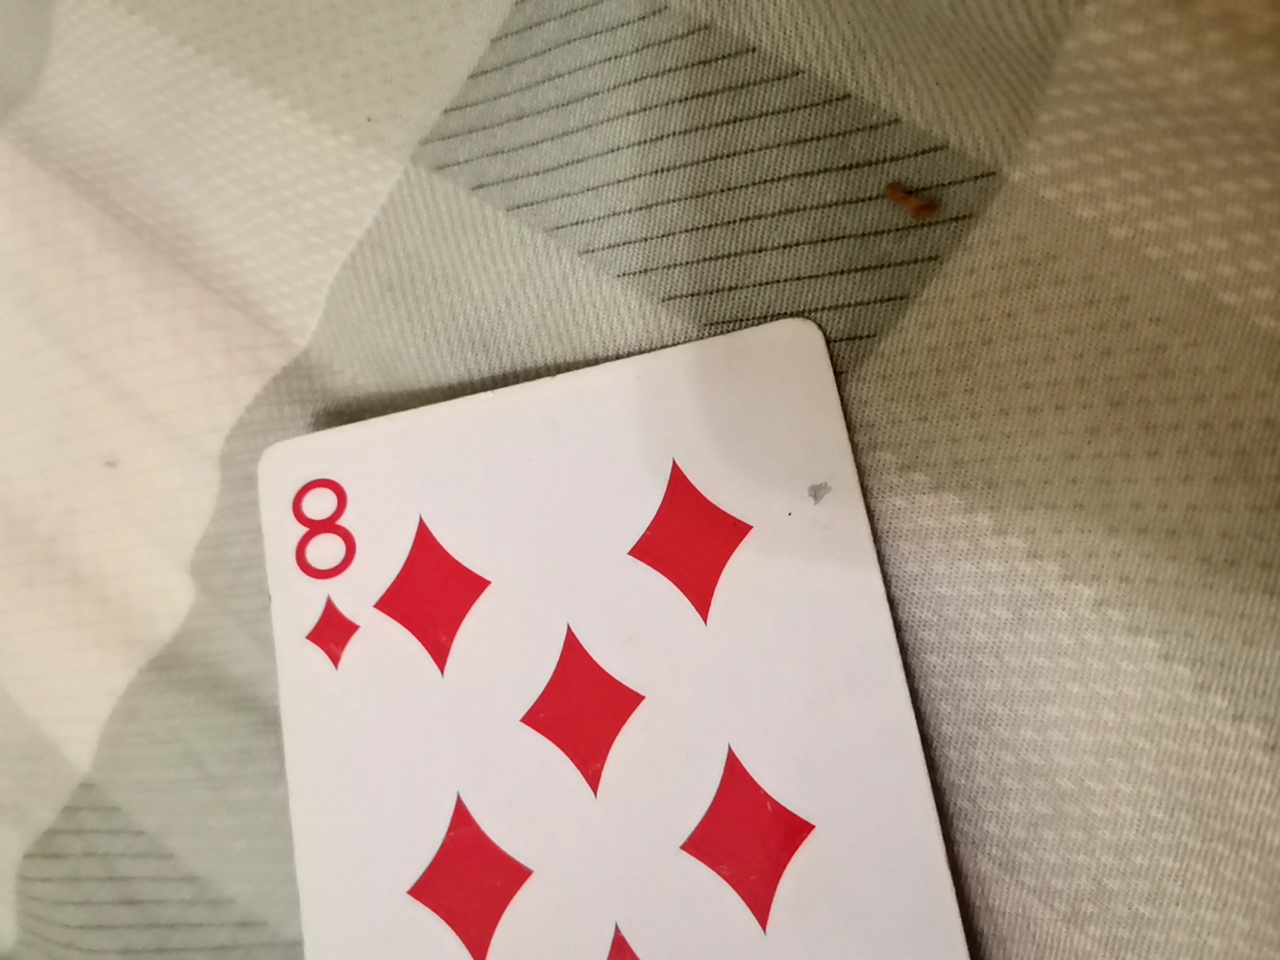fk 8: (232, 313, 1039, 959)
